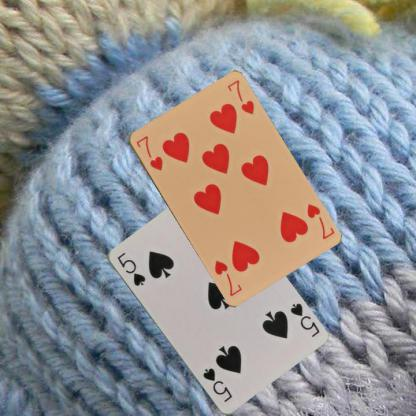5s: (287, 300, 321, 338), (114, 250, 147, 288)
7h: (303, 201, 336, 241), (133, 133, 164, 172)
